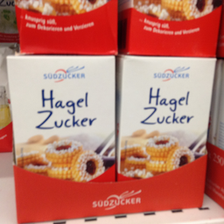tomato_sauce: (4, 54, 117, 183), (117, 55, 216, 185)
